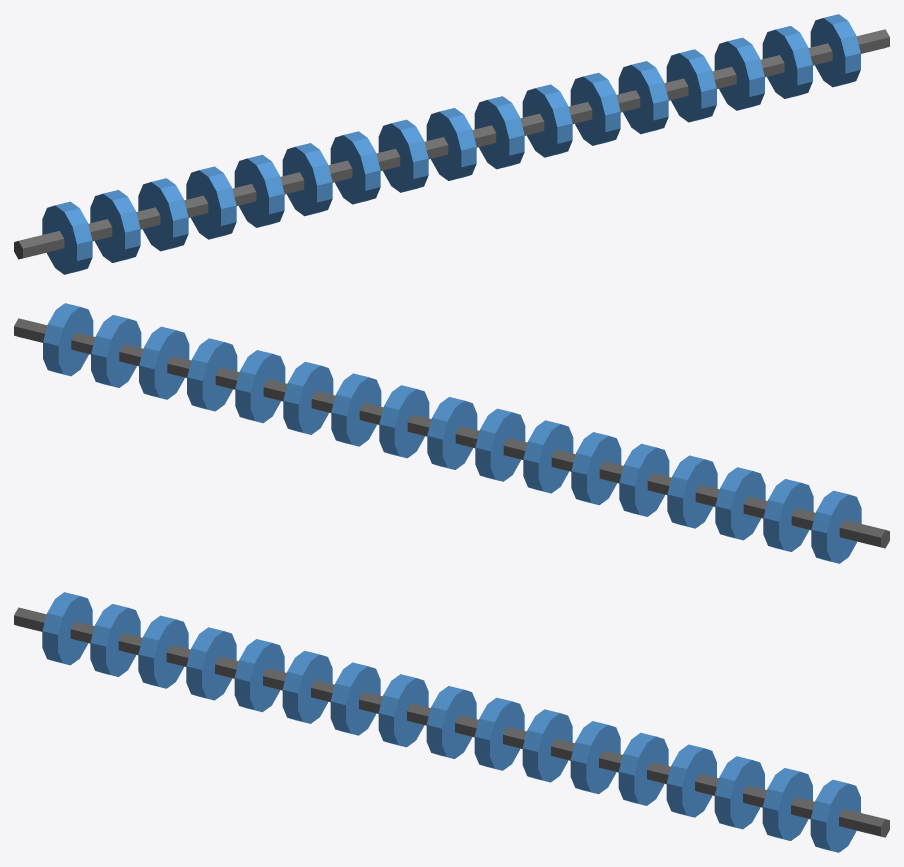
File: ground-intake-bottom-rollers.glb
The picture shows the model from 3 angles, top to bottom: view 1: azimuth 30°, elevation 25°; view 2: azimuth 150°, elevation 25°; view 3: azimuth 330°, elevation 25°; orthographic projection.
Visible parts, largest first — view 1: mesh120, mesh100, mesh140, mesh180, mesh200, mesh220, mesh40, mesh60, mesh80, mesh12, mesh160, mesh340 (+5 smaller); view 2: mesh120, mesh100, mesh140, mesh180, mesh200, mesh220, mesh40, mesh60, mesh80, mesh12, mesh160, mesh340 (+5 smaller); view 3: mesh187, mesh287, mesh19, mesh207, mesh67, mesh127, mesh167, mesh267, mesh27, mesh147, mesh307, mesh107 (+5 smaller).
Boxes of the visible parts, x1,y1,x2,y2 form: mesh120: [570, 76, 605, 145]; mesh100: [618, 65, 653, 134]; mesh140: [522, 88, 557, 157]; mesh180: [426, 111, 461, 180]; mesh200: [378, 123, 413, 192]; mesh220: [330, 135, 365, 204]; mesh40: [762, 29, 797, 98]; mesh60: [714, 41, 749, 110]; mesh80: [666, 53, 701, 122]; mesh12: [810, 18, 845, 87]; mesh160: [474, 100, 509, 169]; mesh340: [42, 205, 76, 274]; mesh120: [298, 365, 333, 434]; mesh100: [250, 354, 285, 423]; mesh140: [346, 377, 381, 446]; mesh180: [442, 400, 477, 469]; mesh200: [490, 412, 525, 481]; mesh220: [538, 424, 573, 493]; mesh40: [106, 318, 141, 387]; mesh60: [154, 330, 189, 399]; mesh80: [202, 342, 237, 411]; mesh12: [58, 307, 93, 376]; mesh160: [394, 389, 429, 458]; mesh340: [827, 494, 861, 563]; mesh187: [394, 678, 428, 747]; mesh287: [154, 619, 188, 688]; mesh19: [826, 783, 860, 852]; mesh207: [346, 666, 380, 735]; mesh67: [682, 748, 716, 817]; mesh127: [538, 713, 572, 782]; mesh167: [442, 689, 476, 758]; mesh267: [202, 631, 236, 700]; mesh27: [778, 771, 812, 840]; mesh147: [490, 701, 524, 770]; mesh307: [106, 607, 140, 676]; mesh107: [586, 725, 620, 794].
Bounding box in the file's own units: 0.7094 × 0.0491 × 0.0491.
